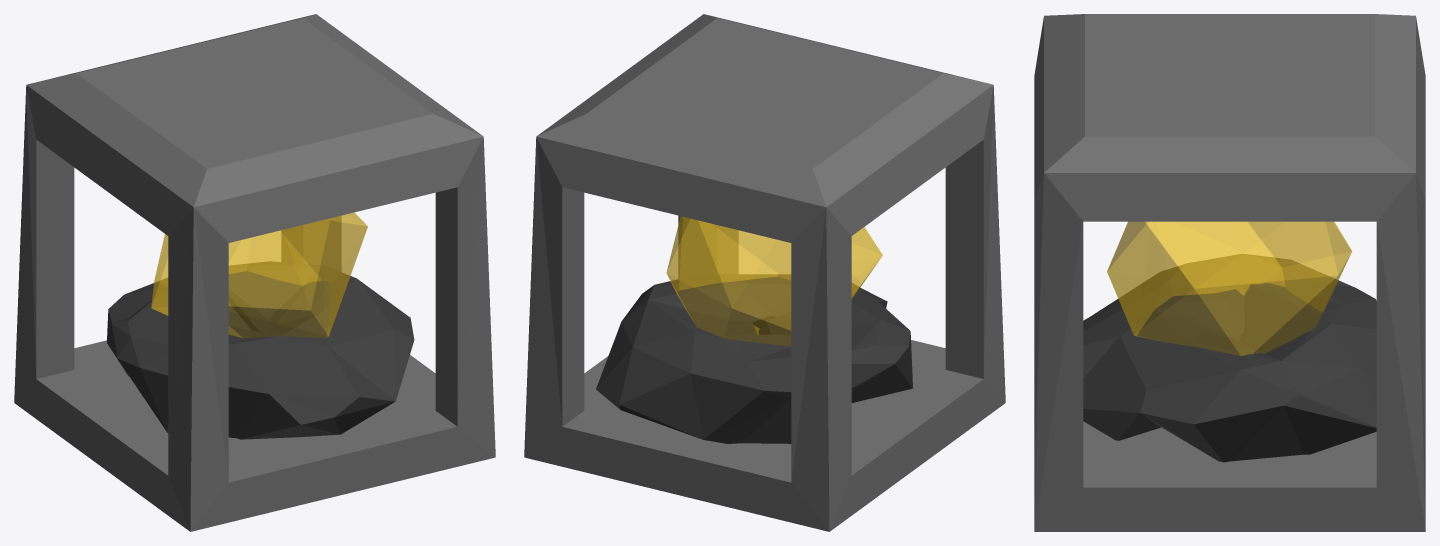
File: oven.dae
3 views of the same model, side by side, from view 1: azimuth 30°, elevation 25°; view 2: azimuth 150°, elevation 25°; view 3: azimuth 270°, elevation 25° (orthographic). The views are drawn at different scales.
Parts seen in each view (by area): view 1: Cube, Torus, Icosphere; view 2: Cube, Torus, Icosphere; view 3: Cube, Torus, Icosphere.
Part boxes in pixels (box(x1,y1,x2,y2)): Cube: box(14, 14, 495, 531); Torus: box(107, 261, 414, 439); Icosphere: box(151, 212, 367, 338); Cube: box(524, 14, 1005, 531); Torus: box(596, 274, 912, 443); Icosphere: box(666, 216, 882, 346); Cube: box(1034, 14, 1425, 531); Torus: box(1083, 254, 1376, 462); Icosphere: box(1107, 221, 1352, 355).
Size of the model in its own units: 5.69 by 5.69 by 6.29.
